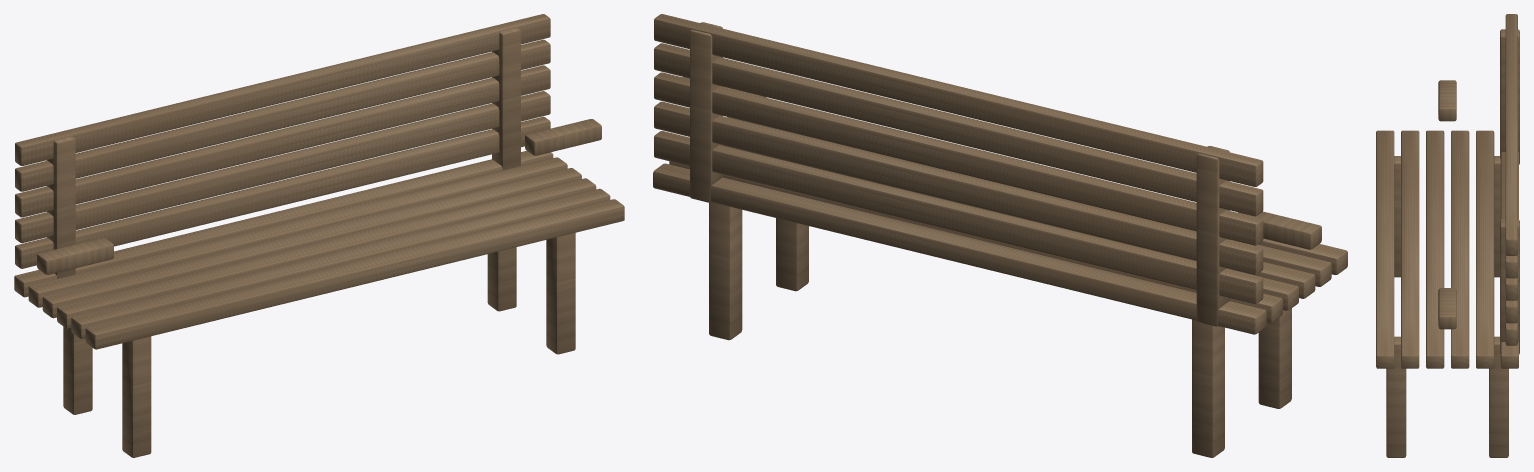
The model's file is bench_premium.glb.
3 renders of one model, left to right at view 1: azimuth 30°, elevation 25°; view 2: azimuth 150°, elevation 25°; view 3: azimuth 270°, elevation 25°, orthographic. The views are drawn at different scales.
Parts seen in each view (by area): view 1: Bench_SeatSlat_1, Bench_BackSlat_5, Bench_BackSlat_4, Bench_BackSlat_3, Bench_BackSlat_2, Bench_BackSlat_1, Bench_SeatSlat_5, Bench_SeatSlat_3, Bench_SeatSlat_2, Bench_SeatSlat_4, Bench_SeatSlat_6, Bench_Leg_1_1 (+7 smaller); view 2: Bench_BackSlat_5, Bench_BackSlat_3, Bench_BackSlat_4, Bench_BackSlat_2, Bench_BackSlat_1, Bench_SeatSlat_6, Bench_Leg_2_2, Bench_Leg_1_2, Bench_BackPost_L, Bench_BackPost_R, Bench_Leg_1_1, Bench_SeatSlat_5 (+6 smaller); view 3: Bench_SeatSlat_1, Bench_SeatSlat_2, Bench_SeatSlat_5, Bench_SeatSlat_4, Bench_SeatSlat_3, Bench_BackSlat_5, Bench_Leg_2_1, Bench_Leg_2_2, Bench_BackPost_R, Bench_BackPost_L, Bench_SeatSlat_6, Bench_Leg_1_1 (+7 smaller).
Boxes of the visible parts, left/top/right/bottom form: Bench_SeatSlat_1: left=85, top=199, right=624, bottom=349; Bench_BackSlat_5: left=15, top=14, right=550, bottom=165; Bench_BackSlat_4: left=15, top=39, right=550, bottom=191; Bench_BackSlat_3: left=15, top=65, right=550, bottom=217; Bench_BackSlat_2: left=15, top=91, right=550, bottom=243; Bench_BackSlat_1: left=15, top=116, right=550, bottom=268; Bench_SeatSlat_5: left=28, top=157, right=567, bottom=307; Bench_SeatSlat_3: left=57, top=178, right=596, bottom=328; Bench_SeatSlat_2: left=71, top=188, right=610, bottom=338; Bench_SeatSlat_4: left=42, top=168, right=581, bottom=318; Bench_SeatSlat_6: left=14, top=150, right=553, bottom=297; Bench_Leg_1_1: left=122, top=336, right=151, bottom=457; Bench_BackSlat_5: left=654, top=14, right=1263, bottom=186; Bench_BackSlat_3: left=654, top=72, right=1263, bottom=245; Bench_BackSlat_4: left=654, top=43, right=1263, bottom=216; Bench_BackSlat_2: left=654, top=101, right=1263, bottom=274; Bench_BackSlat_1: left=654, top=131, right=1263, bottom=303; Bench_SeatSlat_6: left=653, top=163, right=1266, bottom=334; Bench_Leg_2_2: left=709, top=202, right=742, bottom=340; Bench_Leg_1_2: left=1192, top=319, right=1224, bottom=457; Bench_BackPost_L: left=1196, top=146, right=1229, bottom=326; Bench_BackPost_R: left=690, top=22, right=722, bottom=202; Bench_Leg_1_1: left=1258, top=308, right=1291, bottom=408; Bench_SeatSlat_5: left=669, top=161, right=1282, bottom=322; Bench_SeatSlat_1: left=1376, top=130, right=1394, bottom=368; Bench_SeatSlat_2: left=1401, top=130, right=1419, bottom=368; Bench_SeatSlat_5: left=1476, top=130, right=1494, bottom=368; Bench_SeatSlat_4: left=1451, top=130, right=1469, bottom=368; Bench_SeatSlat_3: left=1426, top=130, right=1444, bottom=368; Bench_BackSlat_5: left=1505, top=14, right=1517, bottom=255; Bench_Leg_2_1: left=1386, top=336, right=1406, bottom=457; Bench_Leg_2_2: left=1489, top=336, right=1508, bottom=457; Bench_BackPost_R: left=1500, top=219, right=1519, bottom=354; Bench_BackPost_L: left=1500, top=29, right=1519, bottom=164; Bench_SeatSlat_6: left=1500, top=152, right=1518, bottom=368; Bench_Leg_1_1: left=1394, top=156, right=1400, bottom=277.
Size of what is drawn, in the model's own units: 1.84 by 0.8595 by 0.4705.
Materials: 1 (1 with a texture image).
